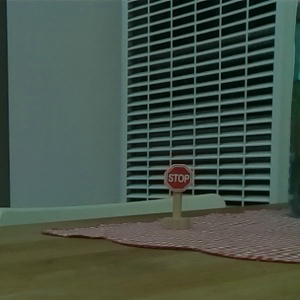stop sign: (161, 162, 193, 231)
